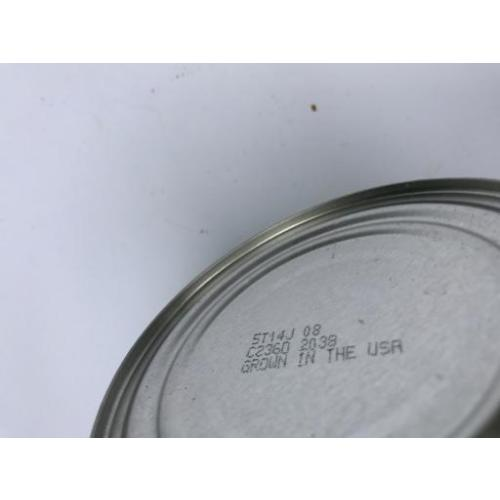metal: (88, 179, 499, 438)
